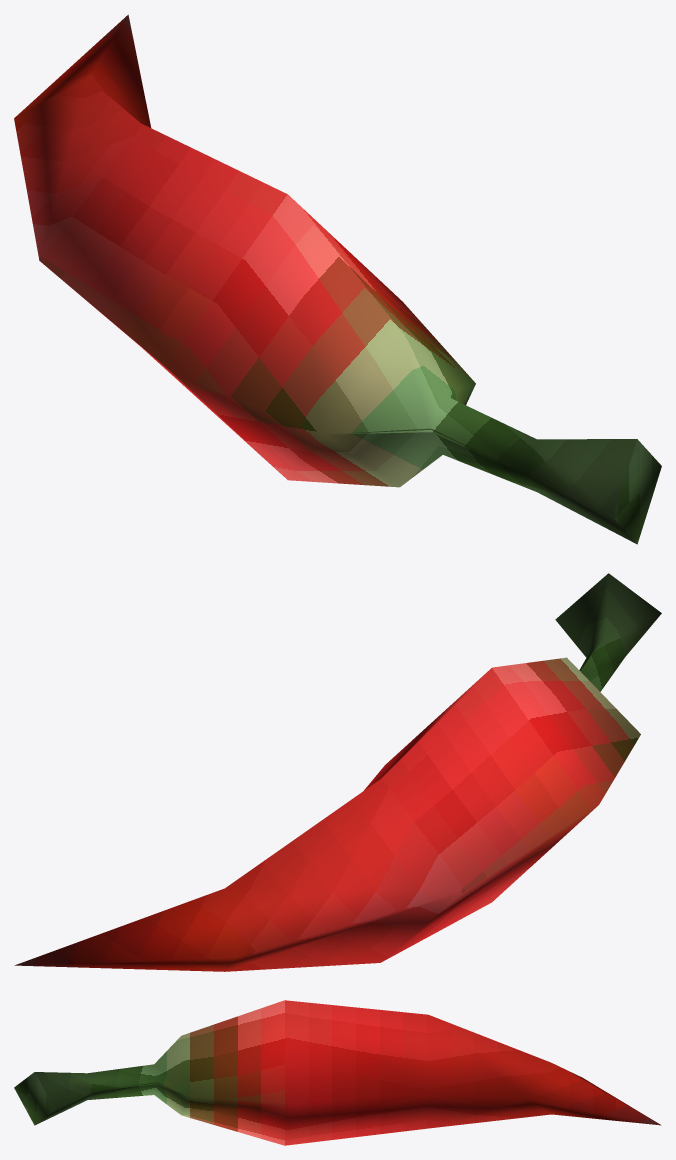
Rendered from sulredgochu.glb.
The picture shows the model from 3 angles, top to bottom: view 1: azimuth 30°, elevation 25°; view 2: azimuth 150°, elevation 25°; view 3: azimuth 270°, elevation 25°; orthographic projection. The views are drawn at different scales.
Parts seen in each view (by area): view 1: model_sulredgochu; view 2: model_sulredgochu; view 3: model_sulredgochu.
Boxes of the visible parts, <box> form: model_sulredgochu: <box>14,14,661,544</box>; model_sulredgochu: <box>14,573,661,971</box>; model_sulredgochu: <box>14,1000,661,1145</box>.
Bounding box in the file's own units: 0.0727 × 0.0595 × 0.2402.
1 material, 1 textured.
